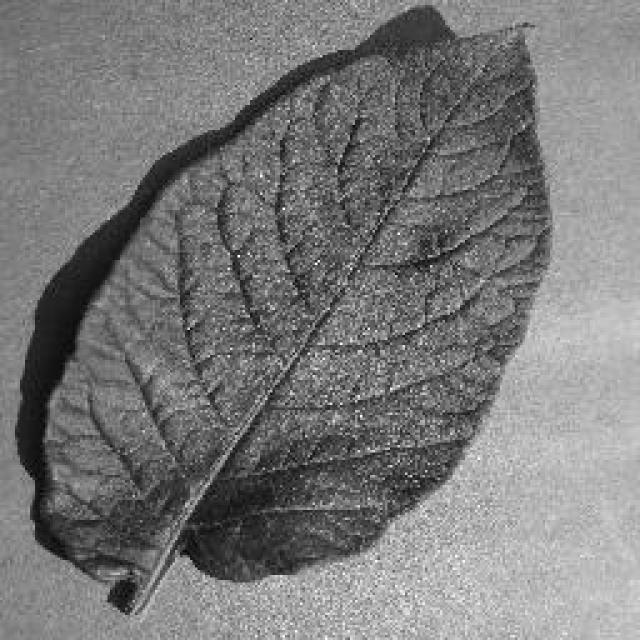Potato: (15, 3, 555, 615)
